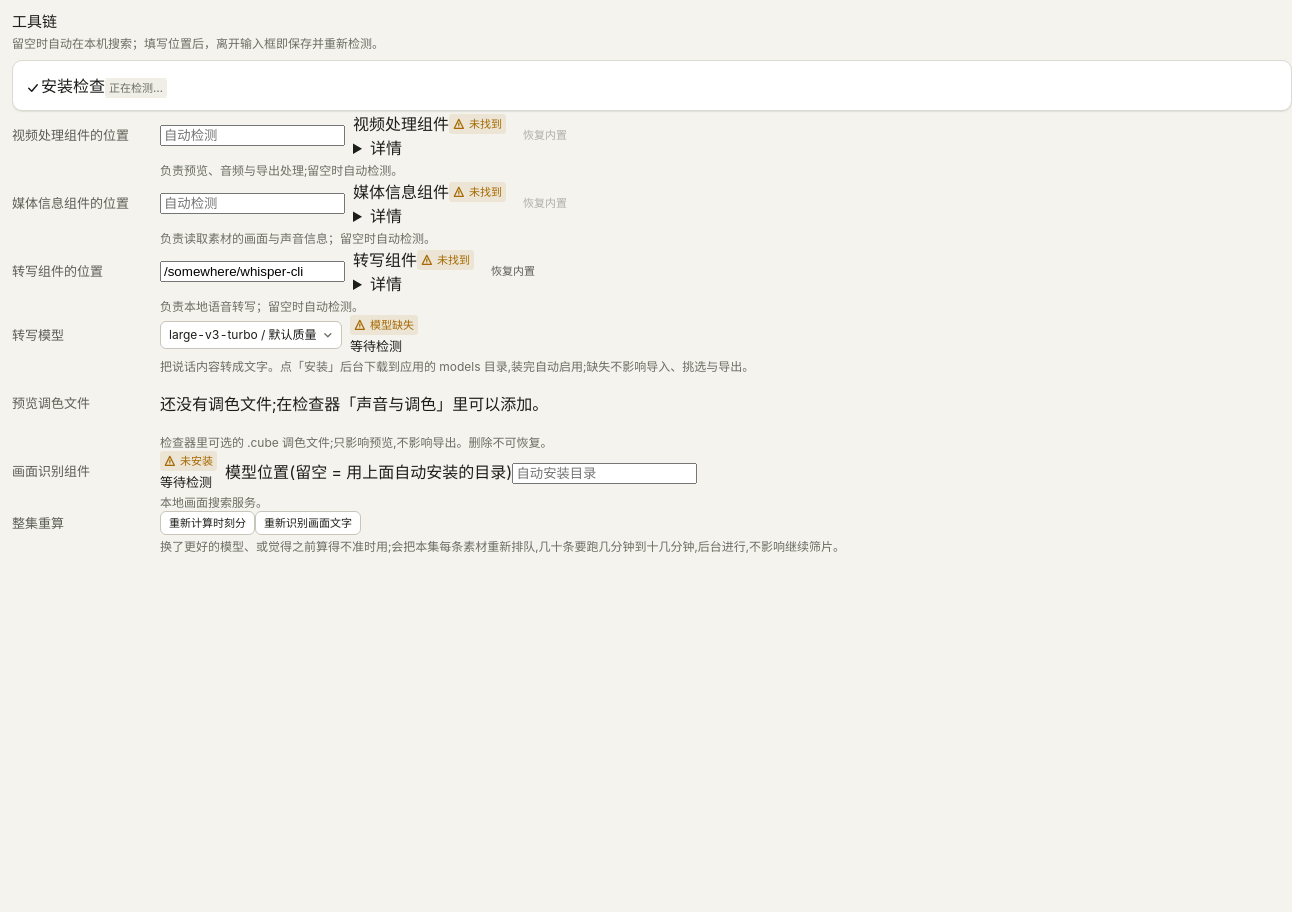
Test: F7 恢复内置 › 按下后把这一把键存成空串并给一条 toast
The width and height of the screenshot is (1292, 912).
Click the button "恢复内置" in the row of "转写组件的位置".
click(513, 271)  # box [482,259,544,283]
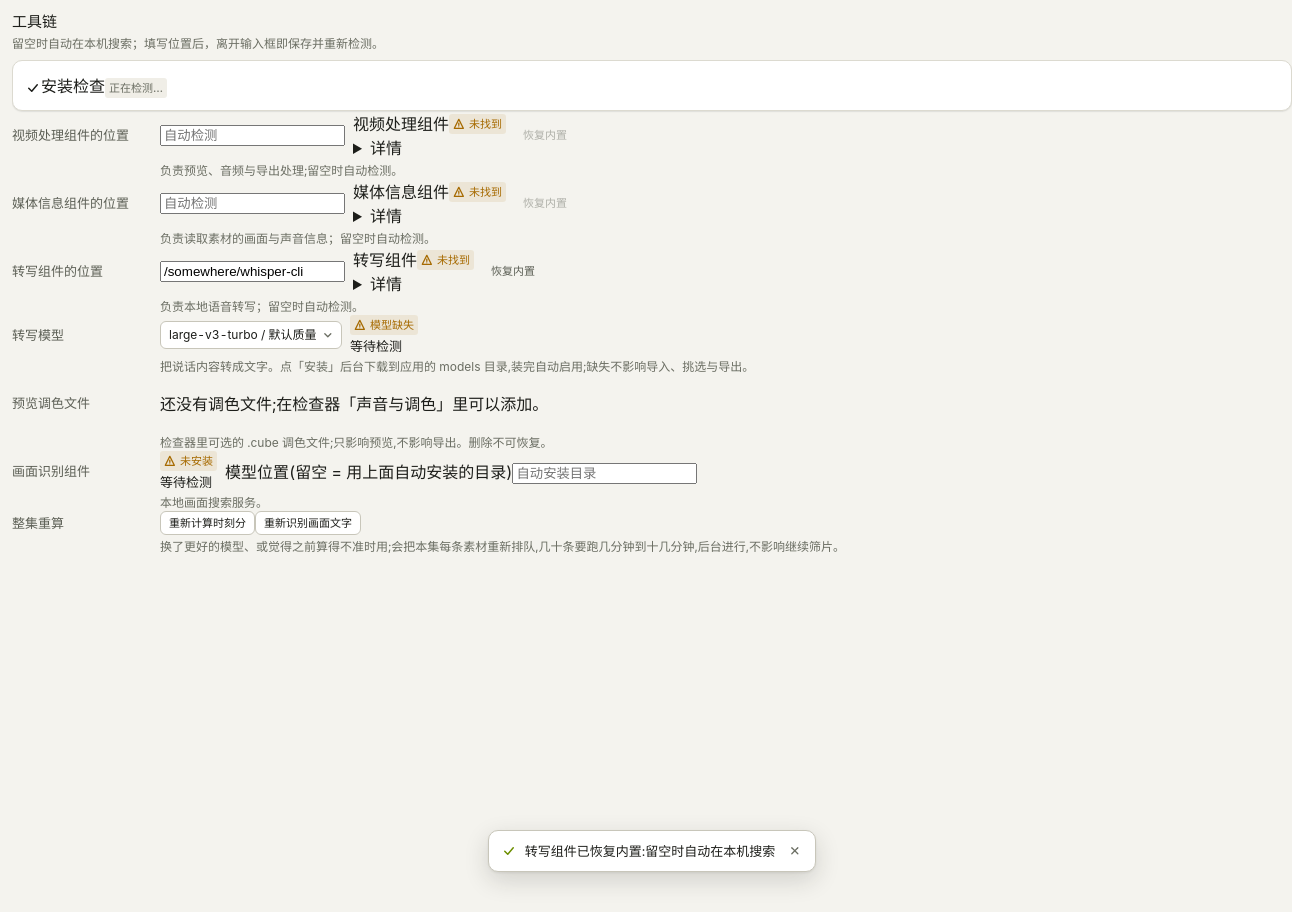
Result: the message shows "转写组件已恢复内置" at [525,843,775,859]
